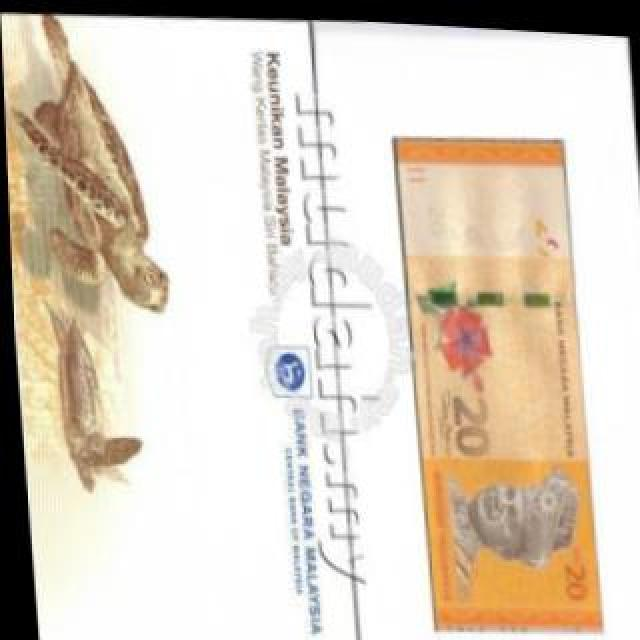20 Ringgit: (394, 120, 598, 640)
